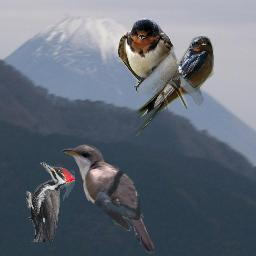Cuckoo: (60, 142, 154, 255)
Swallow: (135, 36, 214, 136), (118, 18, 188, 110)
Woodpecker: (26, 161, 75, 242)
